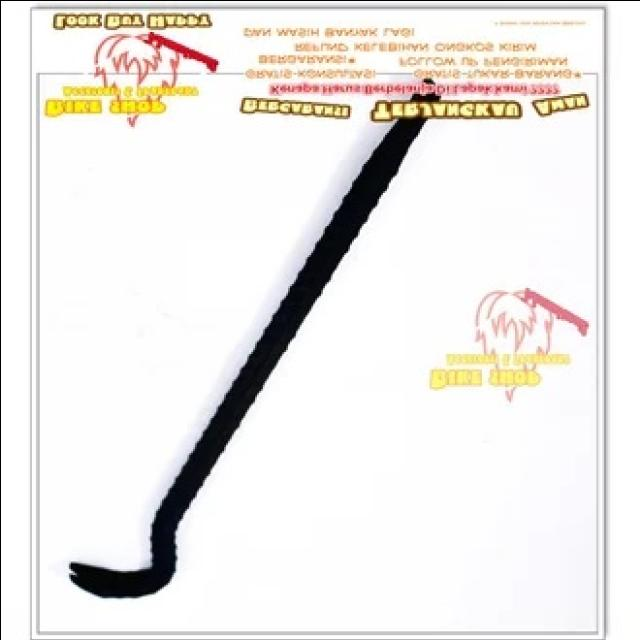Linggis: (68, 76, 440, 600)
